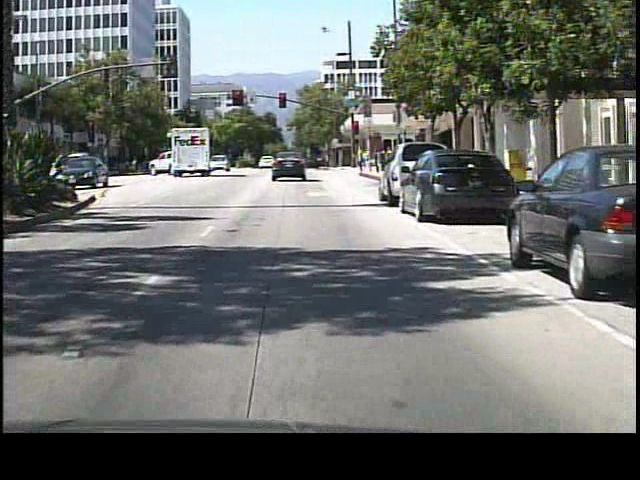person: (353, 146, 369, 177)
